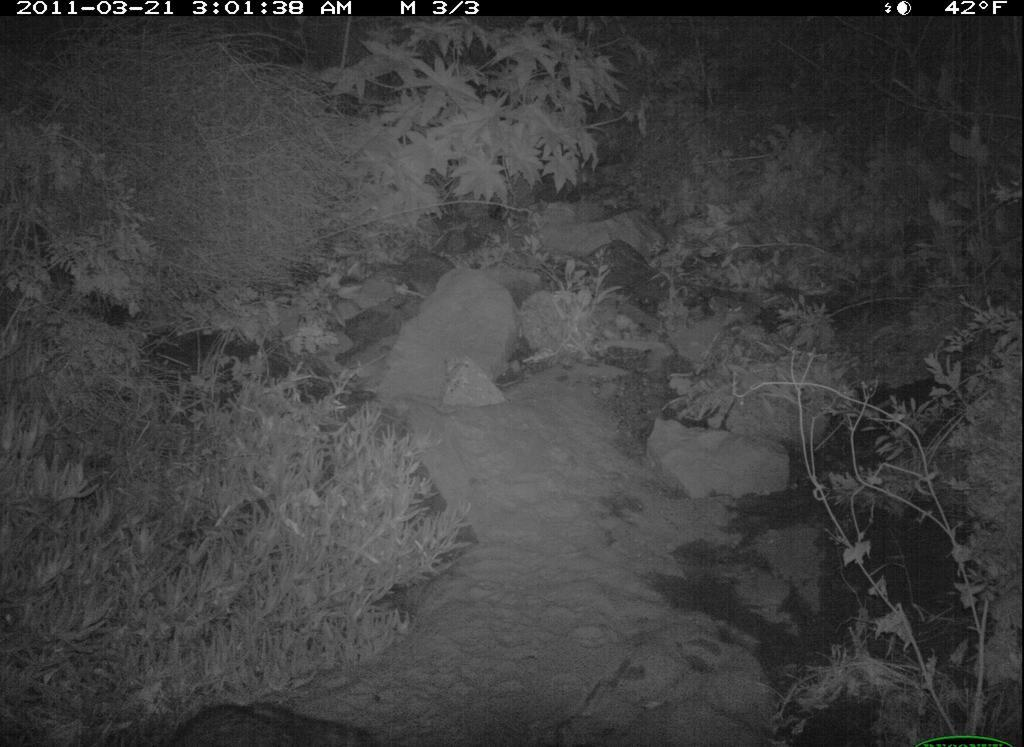raccoon: (131, 669, 386, 747)
